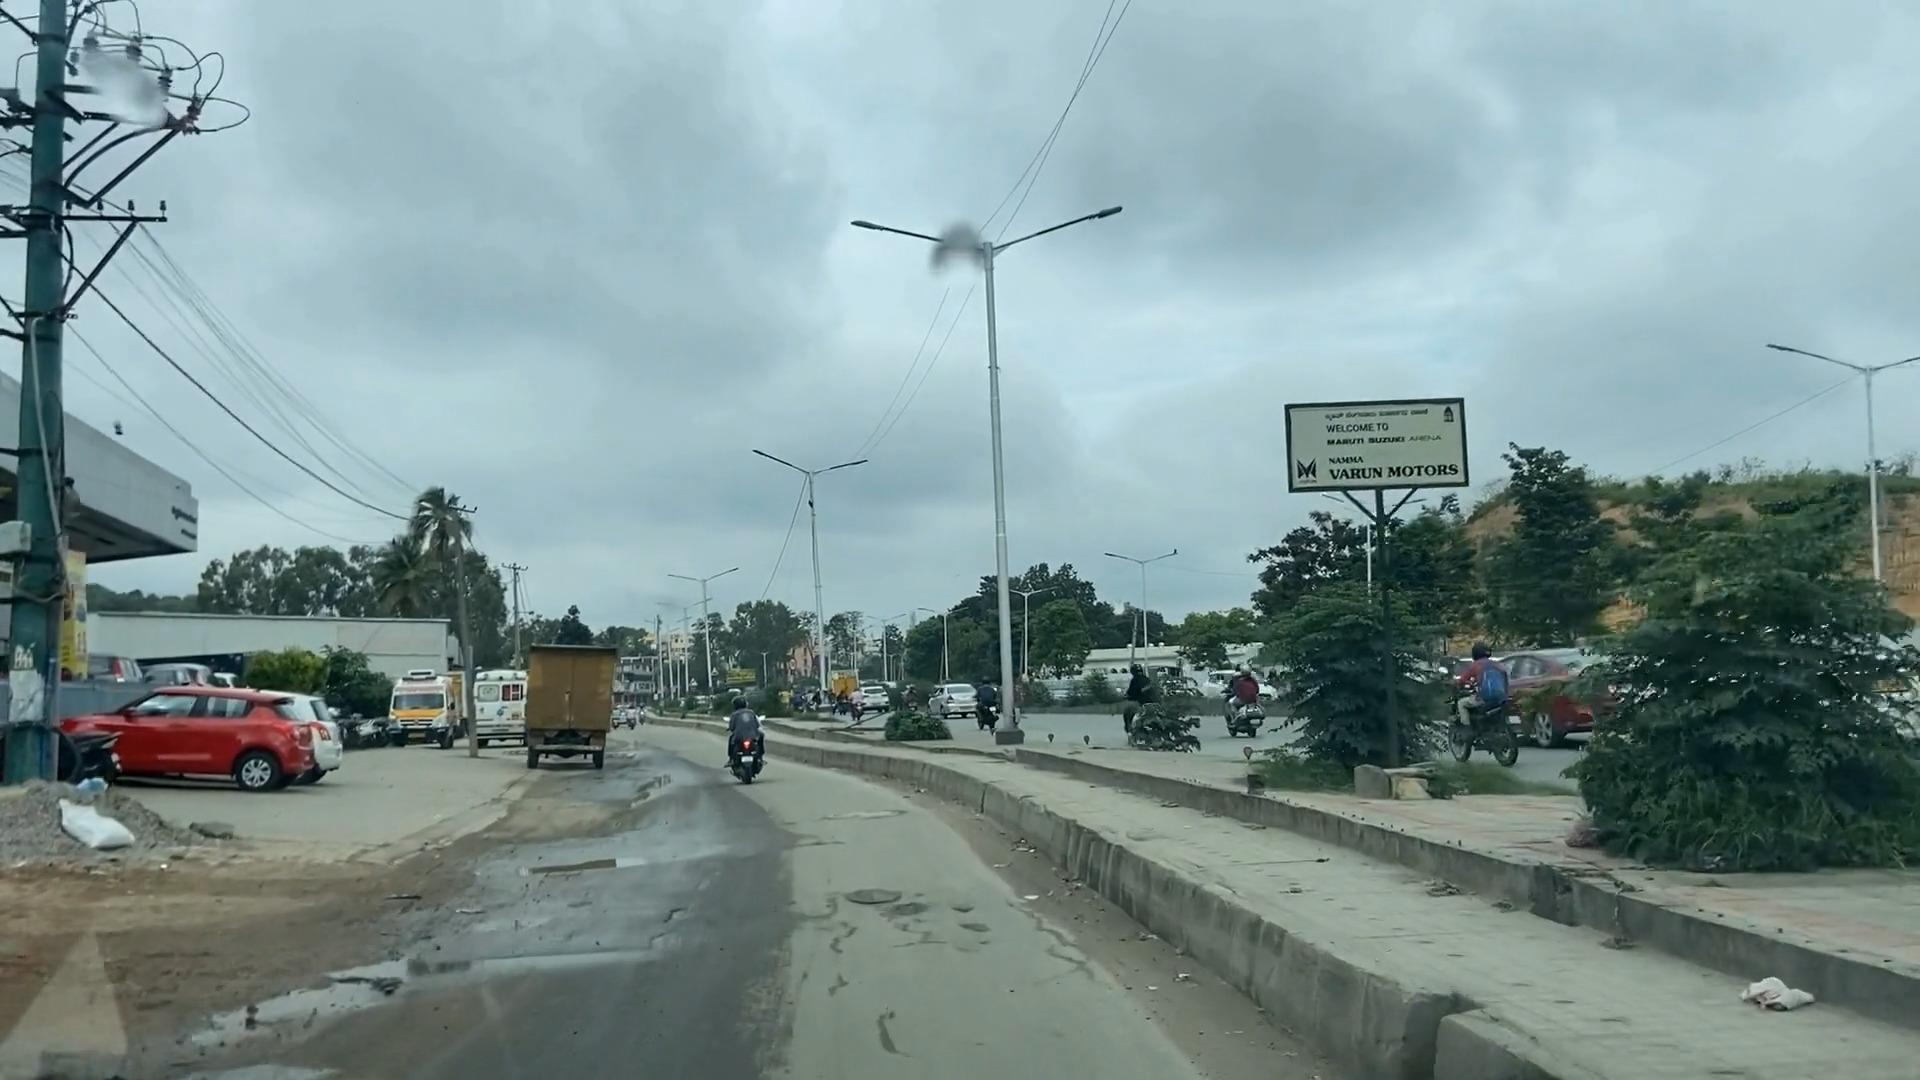RoadDamages: (816, 870, 1010, 961), (853, 1000, 960, 1055)
